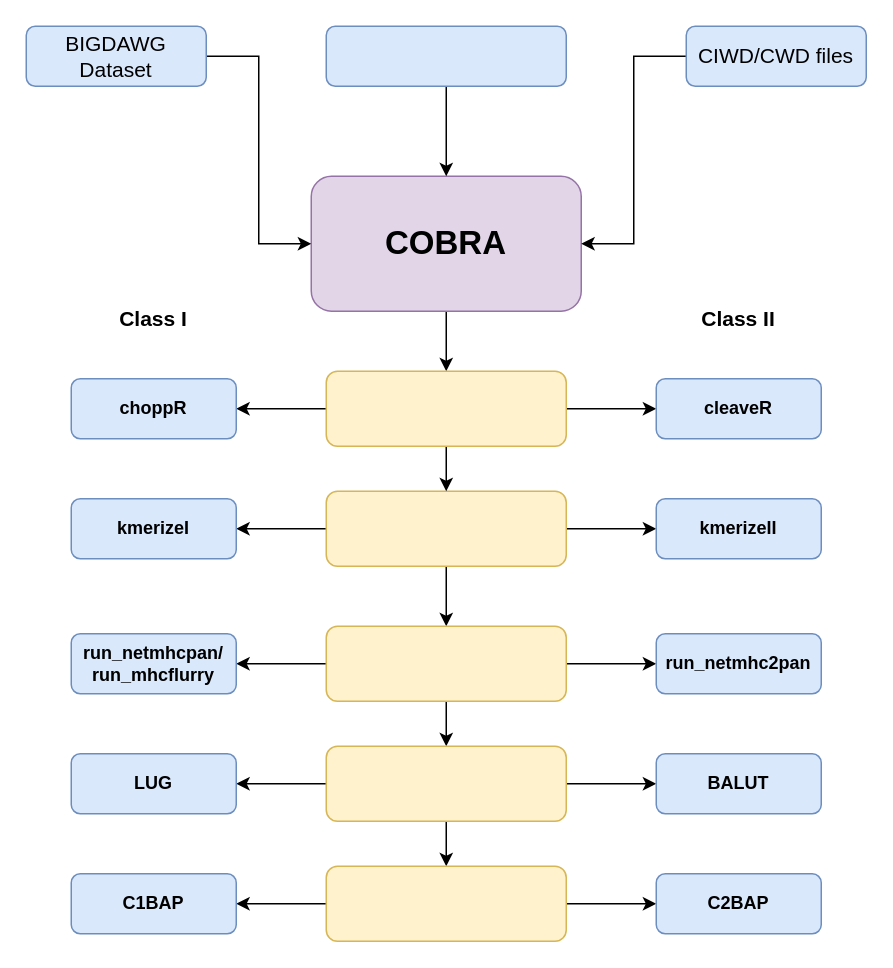
The diagram is 893 pixels wide and 968 high, and some of its shapes have lost their labels. Here are the shapes that lost their labels. From the top down, the centre of each, then its label:
the point at 445,55: SARS-CoV-2 FASTA Files
the point at 445,408: Peptide Cleavage Prediction
the point at 445,528: Peptide Generation
the point at 445,663: Peptide Binding Affinity Prediction
the point at 445,783: Lookup Table Generation
the point at 445,903: Dataset Mapping
